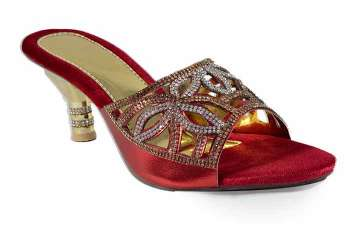Footwear: (18, 27, 337, 195)
